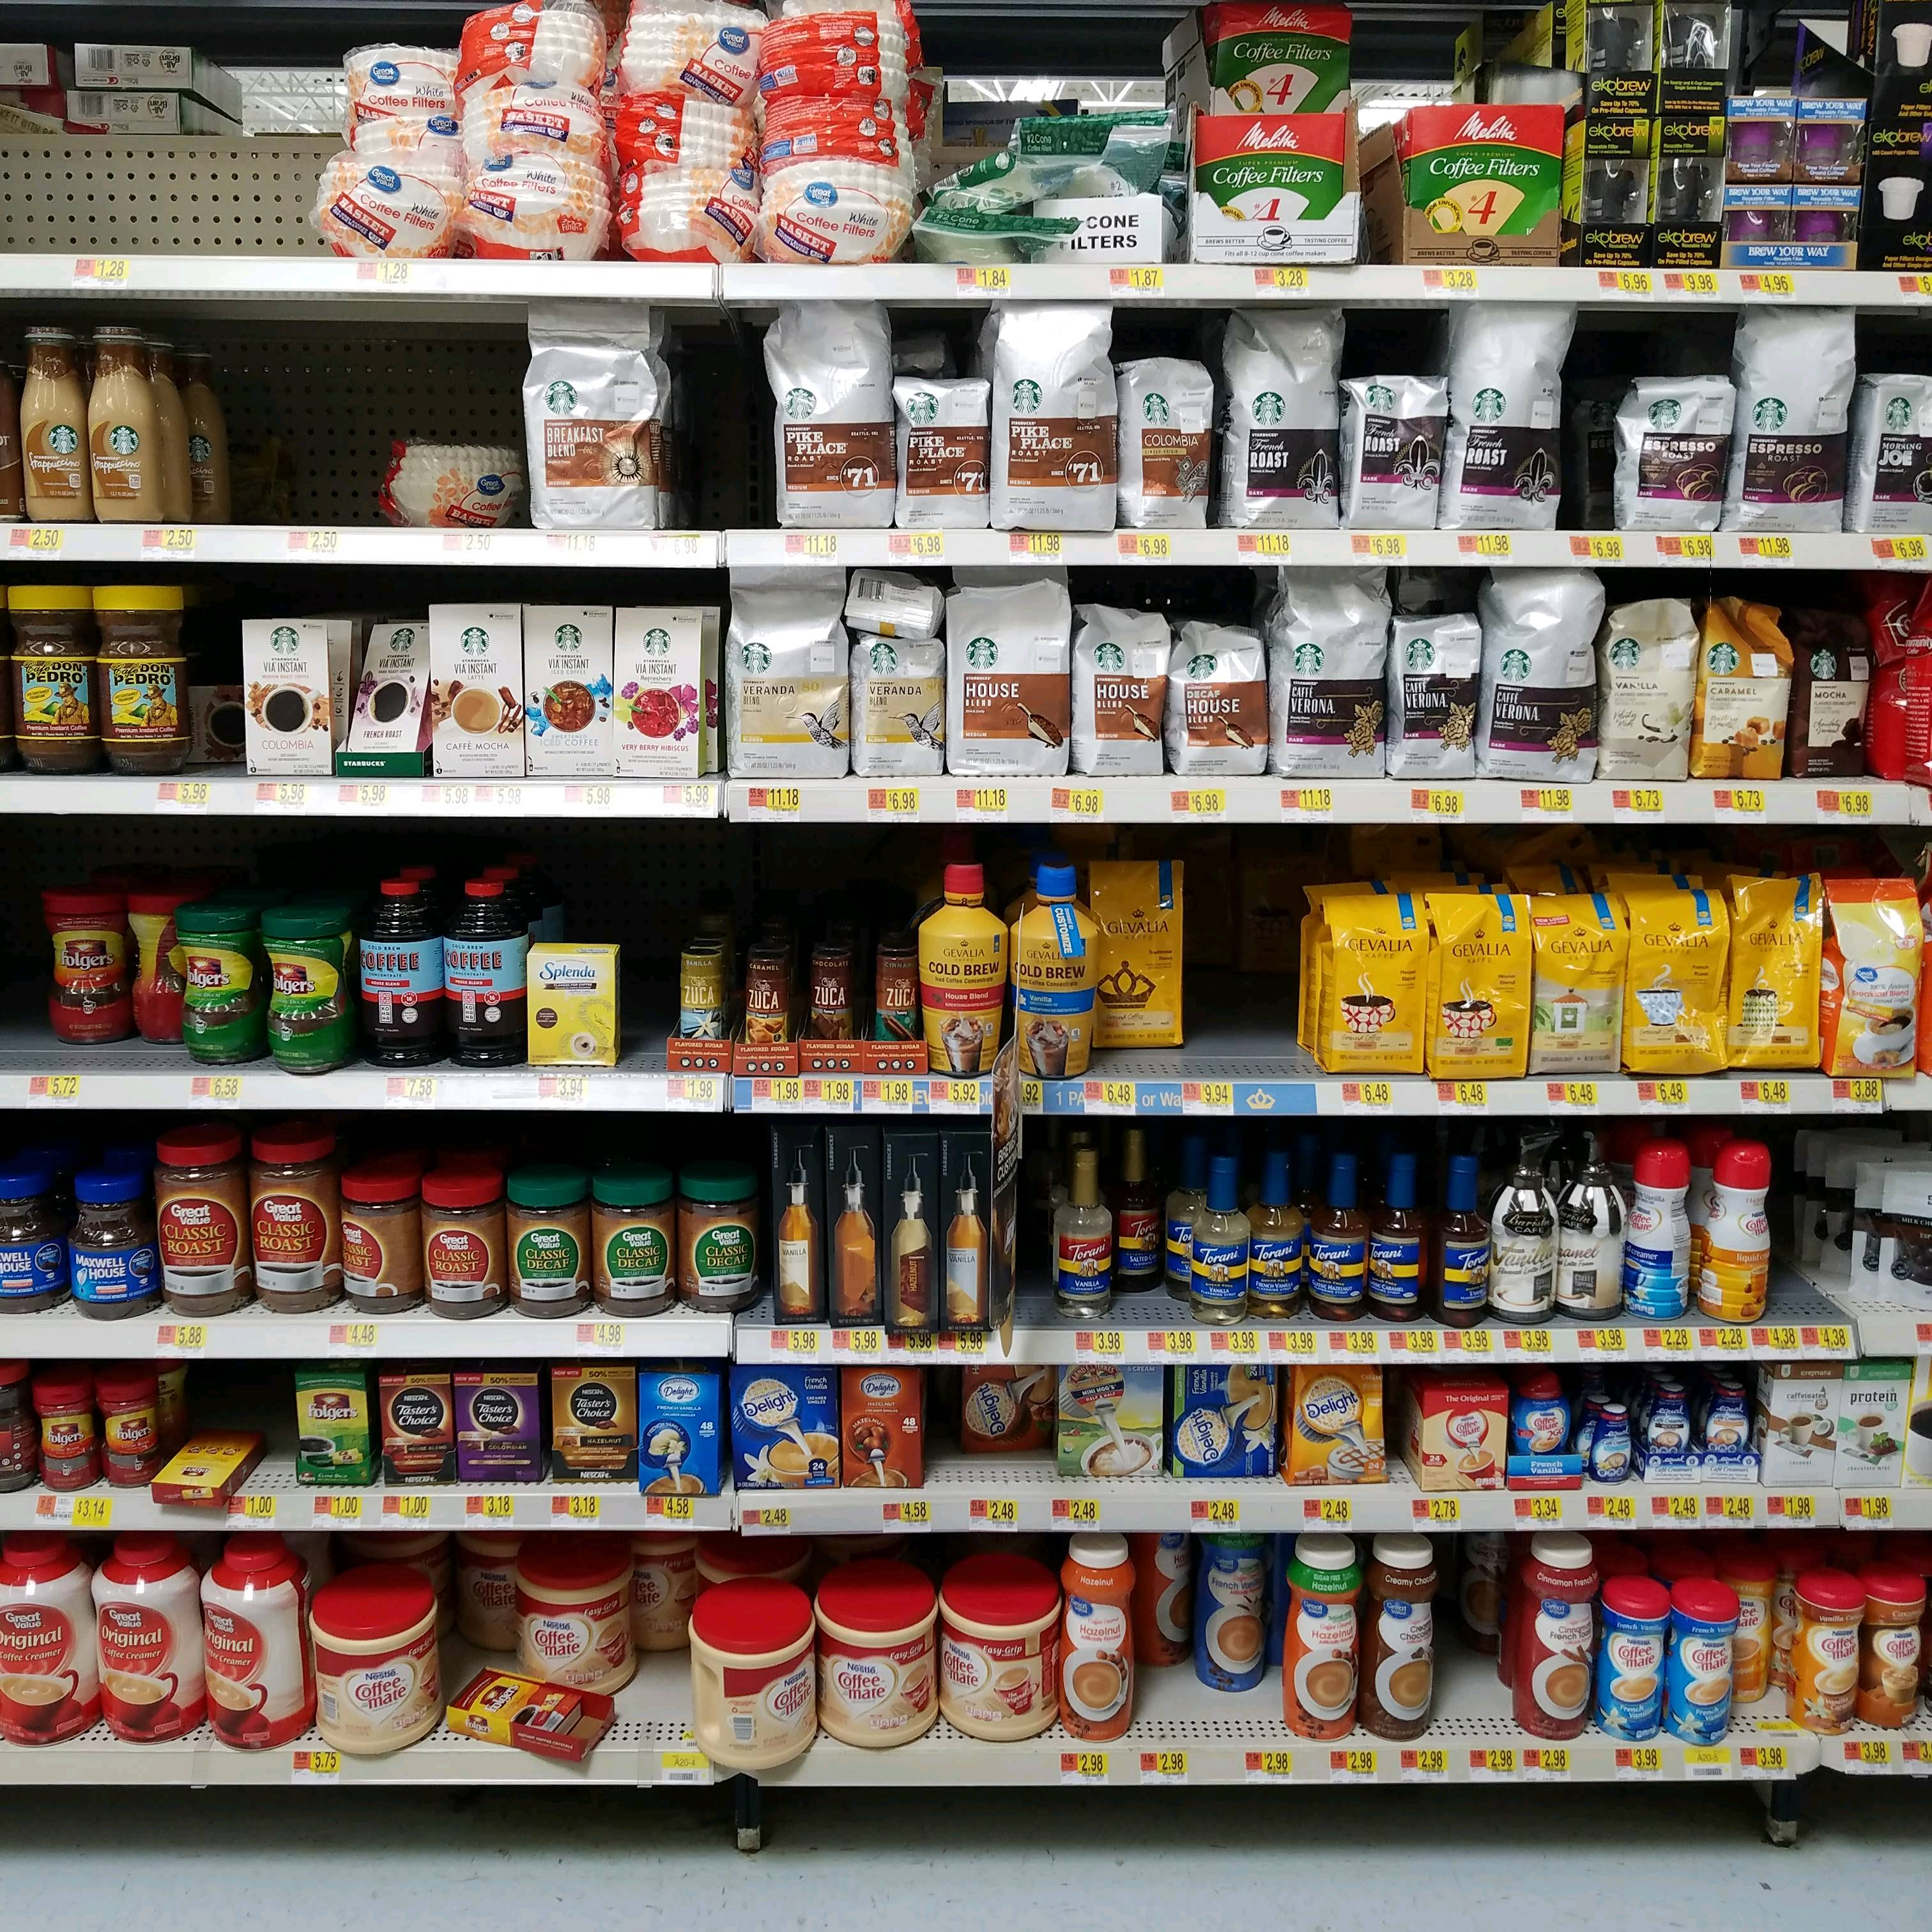product: (458, 9, 614, 262), (766, 9, 904, 262), (625, 2, 750, 264), (529, 308, 662, 531), (1453, 290, 1566, 536), (1723, 313, 1849, 534), (771, 308, 892, 536), (994, 304, 1111, 529), (1401, 99, 1555, 269), (1189, 108, 1353, 265), (1224, 304, 1338, 529), (731, 564, 846, 777), (1272, 570, 1389, 775), (338, 48, 448, 262), (1491, 563, 1596, 784), (947, 582, 1067, 773), (676, 1594, 810, 1760), (94, 1534, 196, 1748), (205, 1541, 308, 1753), (1322, 897, 1428, 1081), (1828, 872, 1923, 1076), (1433, 893, 1536, 1083), (2, 1537, 94, 1748), (1624, 879, 1721, 1077), (315, 1596, 442, 1746), (1095, 856, 1191, 1053), (922, 863, 1010, 1074), (1729, 870, 1819, 1076), (90, 315, 177, 520), (94, 582, 189, 768), (1070, 600, 1166, 780), (819, 1594, 929, 1750), (428, 603, 524, 780), (943, 1592, 1058, 1739), (1120, 354, 1212, 533), (246, 1136, 340, 1311), (1017, 860, 1093, 1076), (1700, 596, 1789, 778), (1187, 12, 1355, 106), (7, 584, 92, 768), (359, 872, 437, 1069), (1622, 366, 1716, 529), (157, 1138, 244, 1313), (1286, 1537, 1359, 1743), (612, 603, 695, 782), (1366, 1537, 1440, 1737), (1173, 612, 1265, 773), (1345, 379, 1442, 531), (1537, 892, 1619, 1072), (527, 605, 612, 777), (1046, 1125, 1118, 1323), (893, 373, 985, 529), (444, 878, 520, 1065), (513, 1548, 626, 1674), (19, 313, 87, 524), (1608, 603, 1688, 780), (1490, 1123, 1559, 1327), (1180, 1129, 1251, 1327), (242, 617, 327, 780), (1394, 614, 1479, 777), (69, 1168, 159, 1320), (1527, 1545, 1596, 1737), (764, 1120, 828, 1329), (731, 1364, 835, 1490), (1284, 1362, 1387, 1488), (1707, 1131, 1776, 1316), (1065, 1552, 1134, 1737), (1302, 1138, 1369, 1327), (934, 1129, 996, 1334), (853, 640, 939, 786), (1060, 1362, 1162, 1484), (1628, 1131, 1691, 1325), (1562, 1118, 1622, 1323), (508, 1173, 593, 1318), (387, 426, 504, 531), (182, 908, 258, 1067), (1798, 605, 1868, 775), (44, 883, 119, 1042), (1173, 1364, 1276, 1479), (678, 1175, 761, 1315), (426, 1175, 506, 1320), (596, 1175, 676, 1320), (1194, 1534, 1267, 1691), (1582, 108, 1651, 272), (267, 916, 340, 1072), (1373, 1132, 1430, 1329), (525, 948, 616, 1070), (455, 1366, 547, 1484), (1865, 372, 1932, 531), (458, 1675, 589, 1757), (288, 1366, 373, 1490), (842, 1366, 924, 1491), (830, 1129, 881, 1327), (639, 1371, 720, 1495), (885, 1131, 934, 1334), (357, 625, 425, 773), (554, 1359, 632, 1486), (343, 1177, 416, 1313), (1433, 1132, 1483, 1330), (1806, 1573, 1867, 1732), (962, 115, 1093, 188), (0, 1168, 65, 1313), (1605, 1580, 1665, 1737), (1658, 119, 1721, 267), (1253, 1139, 1300, 1329), (379, 1364, 451, 1483), (1771, 1359, 1838, 1486), (1421, 1392, 1504, 1493), (1511, 1369, 1578, 1491), (920, 203, 1056, 262), (964, 1362, 1051, 1453), (1674, 1592, 1725, 1744), (1840, 1362, 1904, 1484), (28, 1373, 92, 1493), (127, 890, 177, 1042), (1118, 1120, 1159, 1299), (1583, 2, 1654, 104), (94, 1371, 152, 1493), (1875, 1582, 1925, 1725), (807, 941, 860, 1072), (1660, 5, 1723, 113), (157, 1422, 234, 1509), (743, 947, 794, 1072), (853, 566, 938, 639), (678, 947, 725, 1072), (1730, 99, 1796, 182), (1792, 186, 1858, 269), (1644, 1382, 1698, 1481), (1798, 97, 1861, 180), (874, 941, 915, 1067), (1706, 1378, 1753, 1479), (1729, 186, 1789, 265), (1598, 1399, 1635, 1488)
